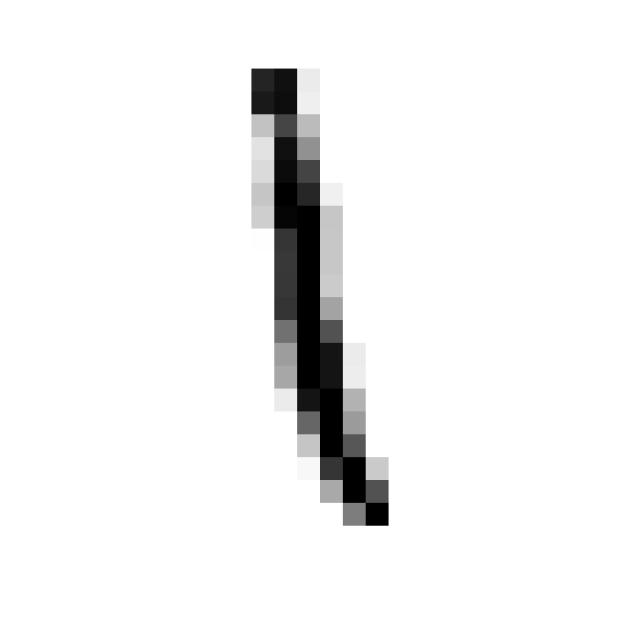1 -one-: (226, 43, 404, 544)
